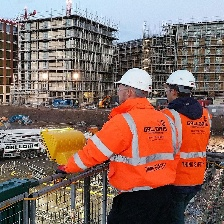helmet: (112, 66, 157, 94), (160, 69, 199, 92)
person: (101, 66, 169, 224), (162, 68, 213, 224)
vest: (103, 100, 175, 192), (163, 106, 214, 191)
